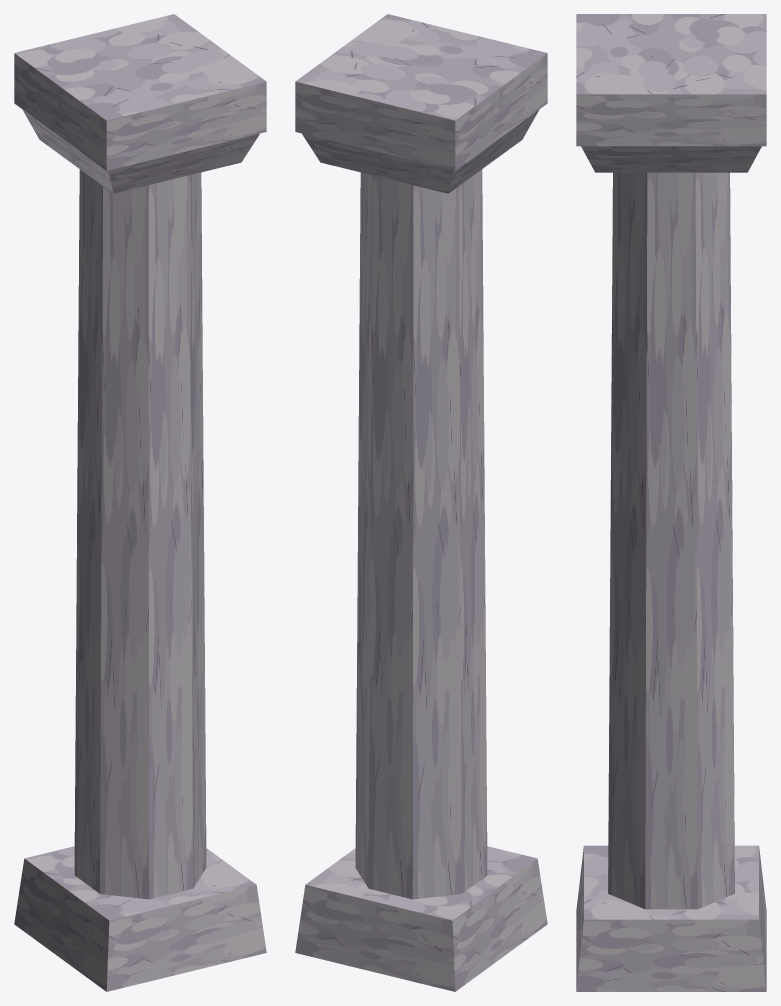
The model's file is pillar.glb.
3 renders of one model, left to right at view 1: azimuth 30°, elevation 25°; view 2: azimuth 150°, elevation 25°; view 3: azimuth 270°, elevation 25°, orthographic. The views are drawn at different scales.
Parts seen in each view (by area): view 1: pillar; view 2: pillar; view 3: pillar.
Boxes of the visible parts, left/top/right/bottom form: pillar: left=14, top=14, right=266, bottom=991; pillar: left=295, top=14, right=547, bottom=991; pillar: left=576, top=14, right=766, bottom=991.
Bounding box in the file's own units: 1 × 5.2 × 1.
Materials: 1 (1 with a texture image).
